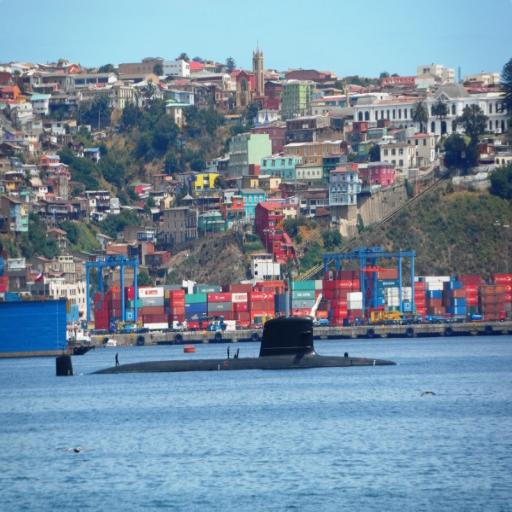submarine: (55, 308, 406, 369)
